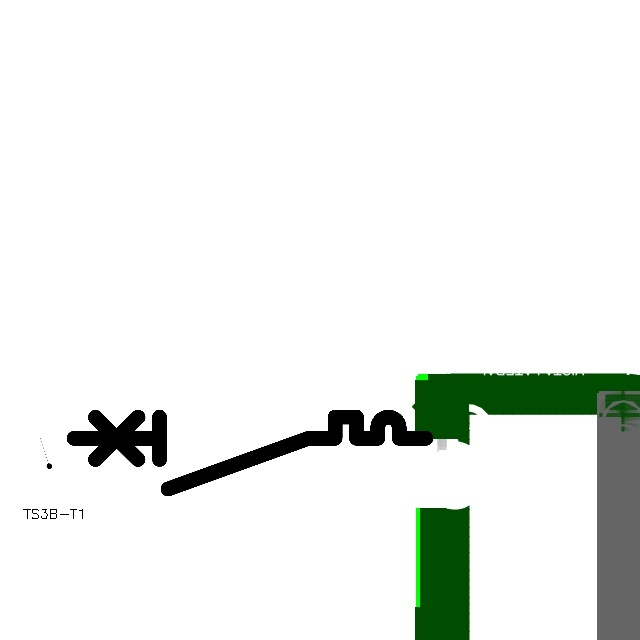interruptor_termomagnetico: (64, 408, 434, 498)
